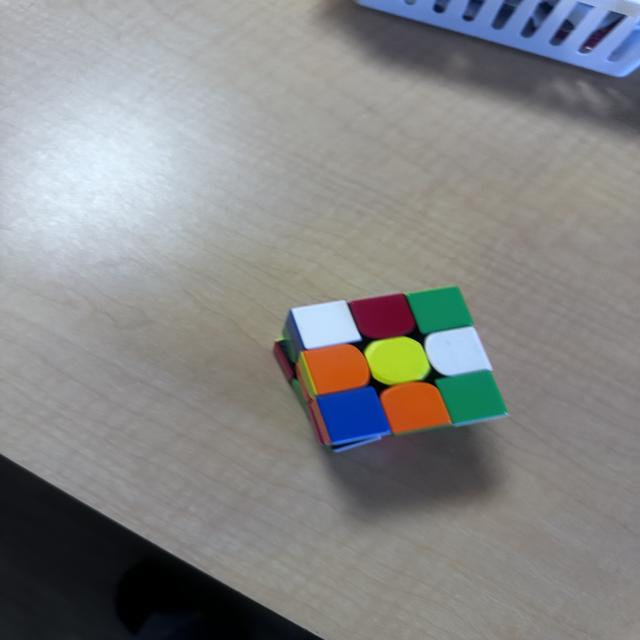sticker: (314, 386, 392, 448), (434, 369, 508, 428), (297, 343, 372, 398), (288, 299, 363, 354), (378, 381, 451, 436), (422, 325, 494, 379), (404, 284, 474, 336), (364, 336, 431, 386), (349, 292, 417, 341), (291, 376, 320, 444), (308, 398, 332, 446), (295, 353, 318, 400), (273, 338, 296, 378), (281, 321, 300, 362), (290, 376, 306, 408)
